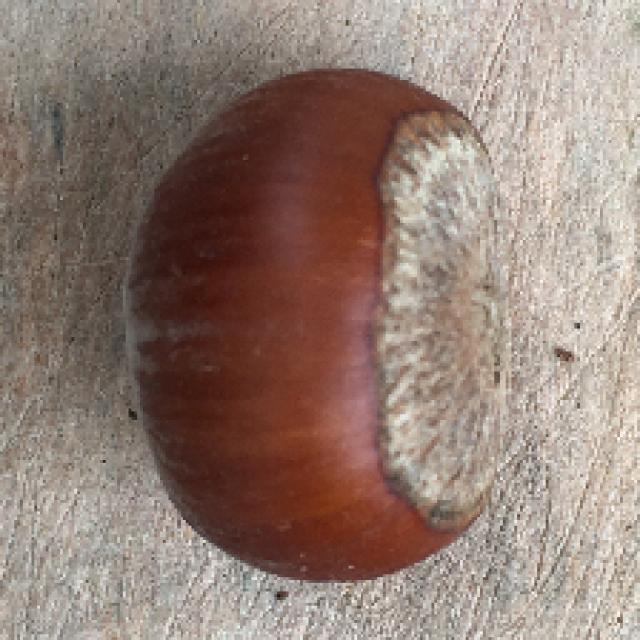QualityHazelnut: (131, 61, 510, 586)
